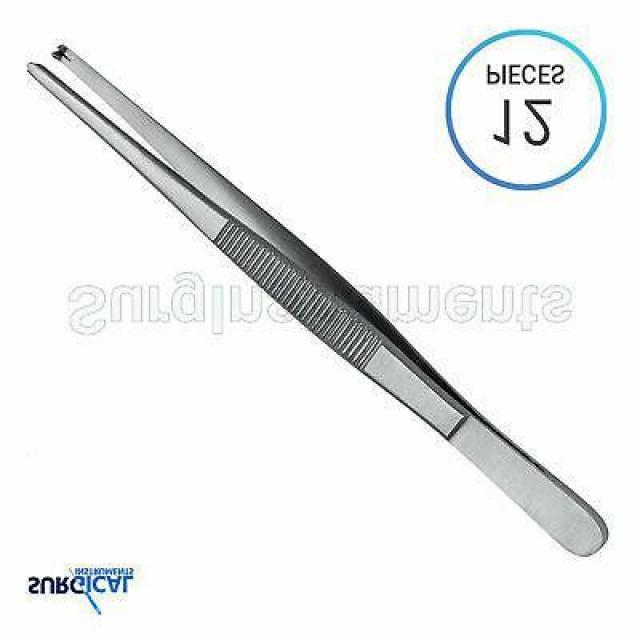Forceps: (22, 44, 614, 564)
